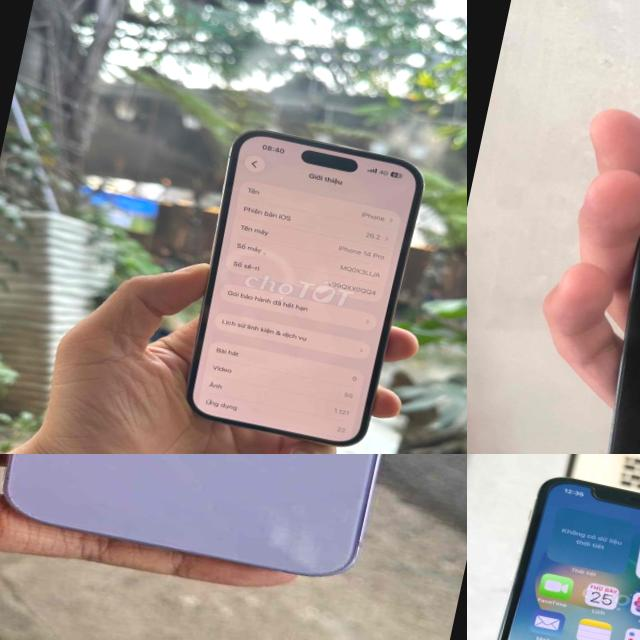gen_12_13: (0, 454, 459, 597), (565, 88, 640, 454)
gen_14: (158, 112, 442, 454)
gen_x_xs: (467, 458, 640, 640)
